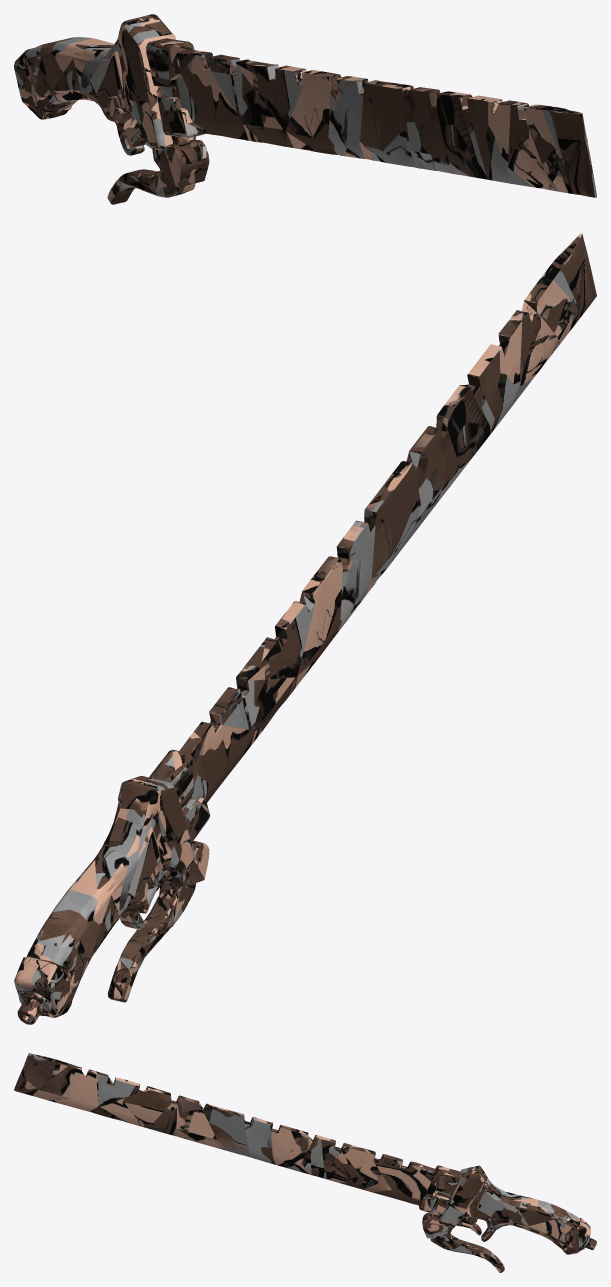
File: Blade.fbx
3 views of the same model, one above another, from view 1: azimuth 30°, elevation 25°; view 2: azimuth 150°, elevation 25°; view 3: azimuth 270°, elevation 25° (orthographic). The views are drawn at different scales.
Parts seen in each view (by area): view 1: Prop; view 2: Prop; view 3: Prop.
Part boxes in pixels (x1=…): Prop: x1=14, y1=14, x2=596, y2=204; Prop: x1=14, y1=233, x2=596, y2=1024; Prop: x1=14, y1=1053, x2=596, y2=1272.
Bounding box in the file's own units: 0.0411 × 0.4338 × 1.05.
